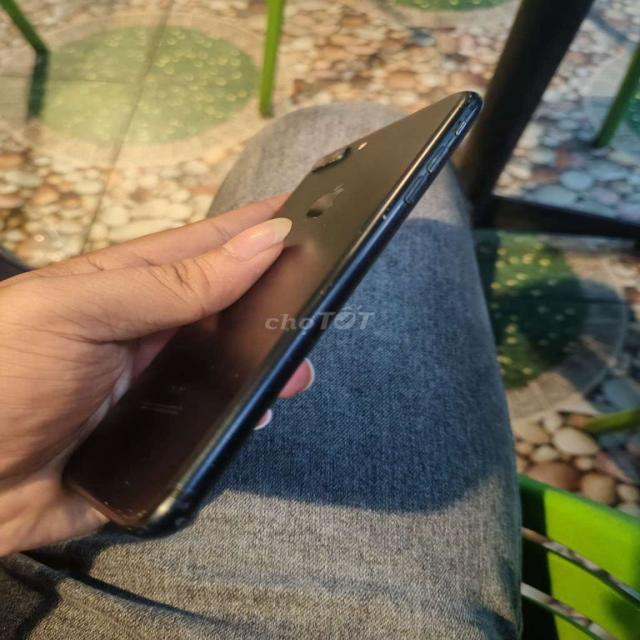gen_7_8: (59, 88, 488, 542)
scratch: (126, 369, 246, 421), (80, 471, 150, 513), (361, 201, 402, 230), (301, 206, 344, 231), (306, 270, 338, 297), (328, 146, 348, 168)
